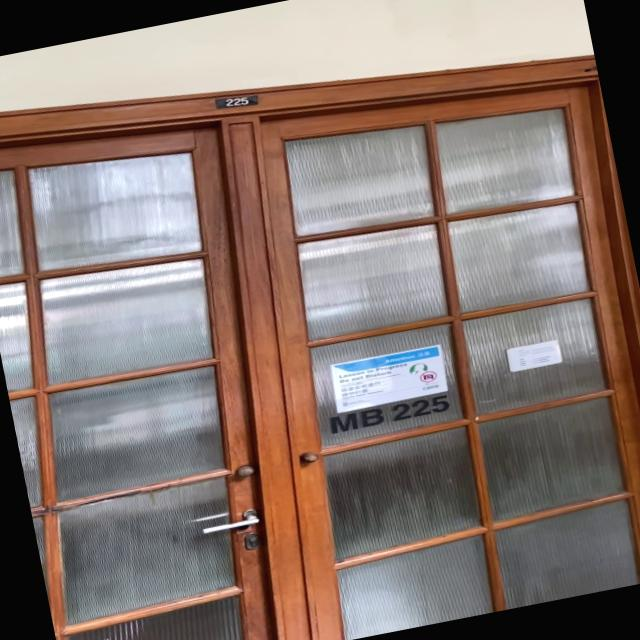room225: (212, 91, 260, 114)
room225Window: (325, 392, 455, 437)
